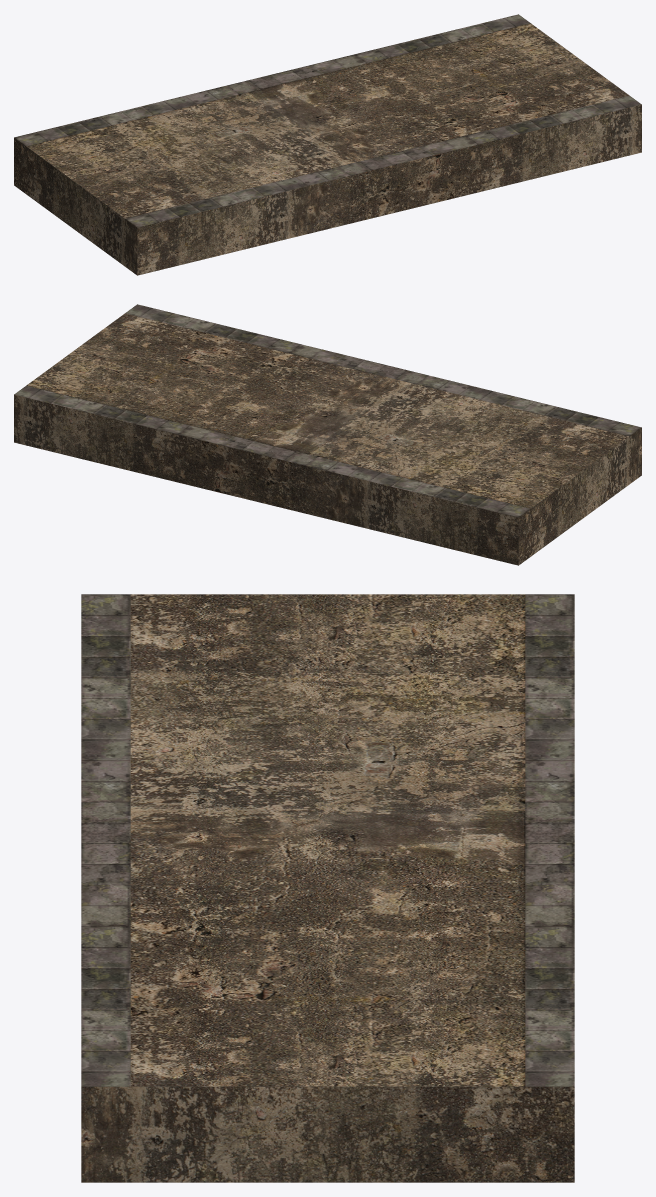
File: materials_5_floor_rectangle_14.fbx
3 renders of one model, top to bottom at view 1: azimuth 30°, elevation 25°; view 2: azimuth 150°, elevation 25°; view 3: azimuth 270°, elevation 25°, orthographic. The views are drawn at different scales.
Visible parts, largest first — view 1: materials_5_floor_rectangle_14; view 2: materials_5_floor_rectangle_14; view 3: materials_5_floor_rectangle_14.
Part boxes in pixels (left/top/right/bottom): materials_5_floor_rectangle_14: left=14, top=14, right=641, bottom=275; materials_5_floor_rectangle_14: left=14, top=304, right=641, bottom=565; materials_5_floor_rectangle_14: left=81, top=594, right=574, bottom=1182.
Size of the model in its own units: 472 by 42.89 by 200.
